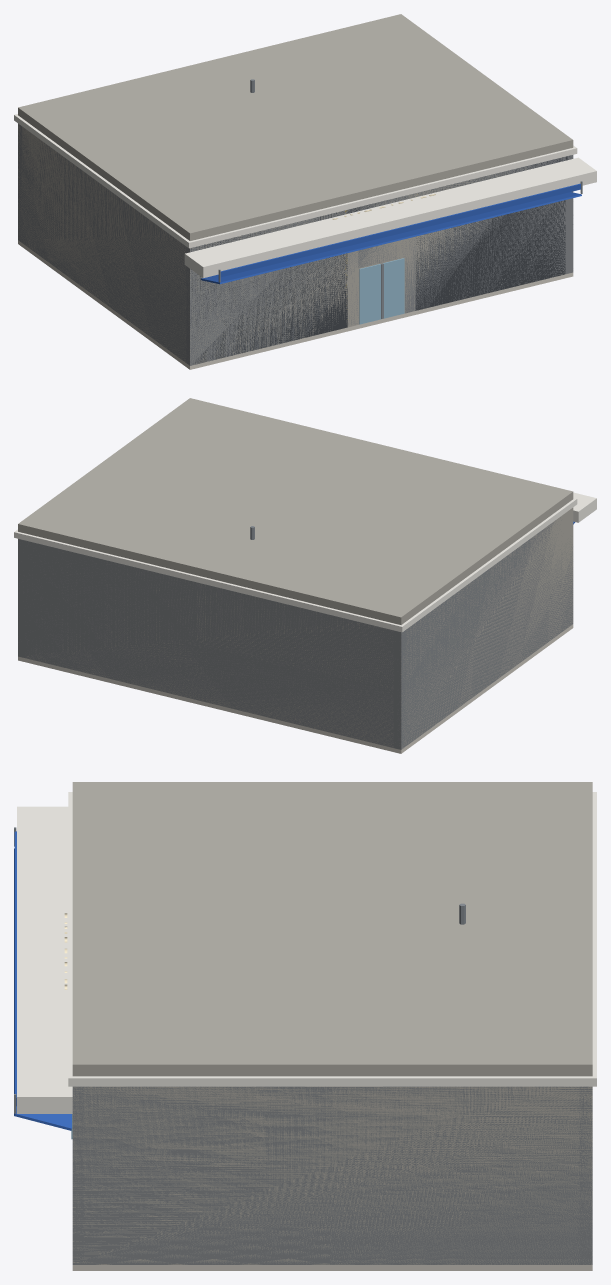
The model's file is BLD_ModGarage.fbx.
3 views of the same model, one above another, from view 1: azimuth 30°, elevation 25°; view 2: azimuth 150°, elevation 25°; view 3: azimuth 270°, elevation 25° (orthographic). The views are drawn at different scales.
Visible parts, largest first — view 1: BLD_ModGarage__BODY, BLD_ModGarage__COL_Main; view 2: BLD_ModGarage__BODY, BLD_ModGarage__COL_Main; view 3: BLD_ModGarage__BODY, BLD_ModGarage__COL_Main.
Part boxes in pixels (x1,y1,x2,y2): BLD_ModGarage__BODY: (14,14,596,369); BLD_ModGarage__COL_Main: (18,111,572,364); BLD_ModGarage__BODY: (14,398,596,753); BLD_ModGarage__COL_Main: (18,492,573,748); BLD_ModGarage__BODY: (14,782,596,1270); BLD_ModGarage__COL_Main: (72,1064,592,1264).
Size of the model in its own units: 18.5 by 6.68 by 15.7.
